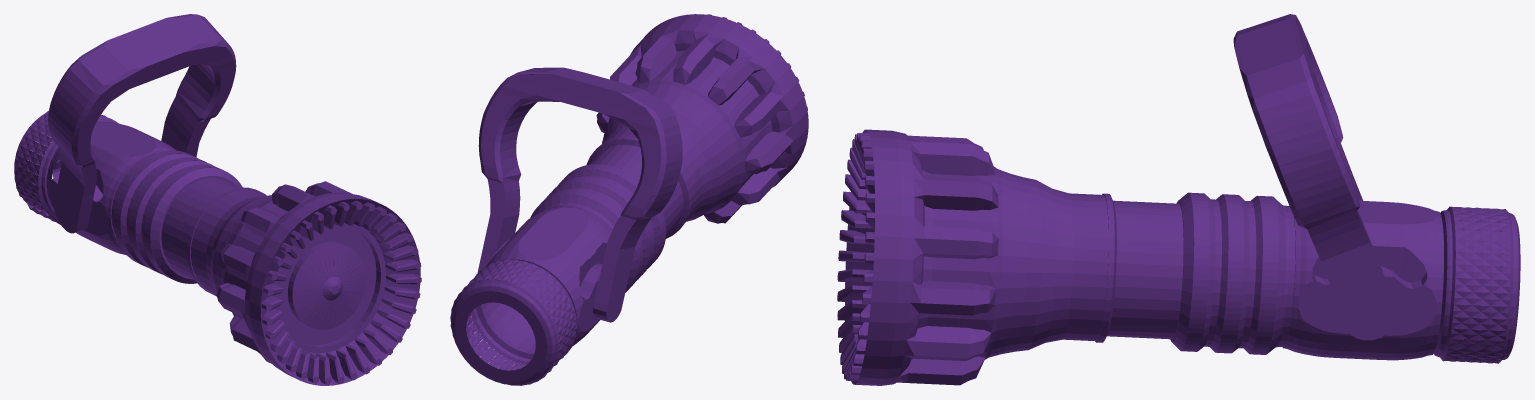
Rendered from LanternModel.fbx.
3 renders of one model, left to right at view 1: azimuth 30°, elevation 25°; view 2: azimuth 150°, elevation 25°; view 3: azimuth 270°, elevation 25°, orthographic. The views are drawn at different scales.
Parts seen in each view (by area): view 1: Layer_BAFF; view 2: Layer_BAFF; view 3: Layer_BAFF.
Boxes of the visible parts, x1,y1,x2,y2 form: Layer_BAFF: (14,14,421,385); Layer_BAFF: (450,14,808,385); Layer_BAFF: (837,14,1520,385).
Size of the model in its own units: 529 by 609 by 1172.
